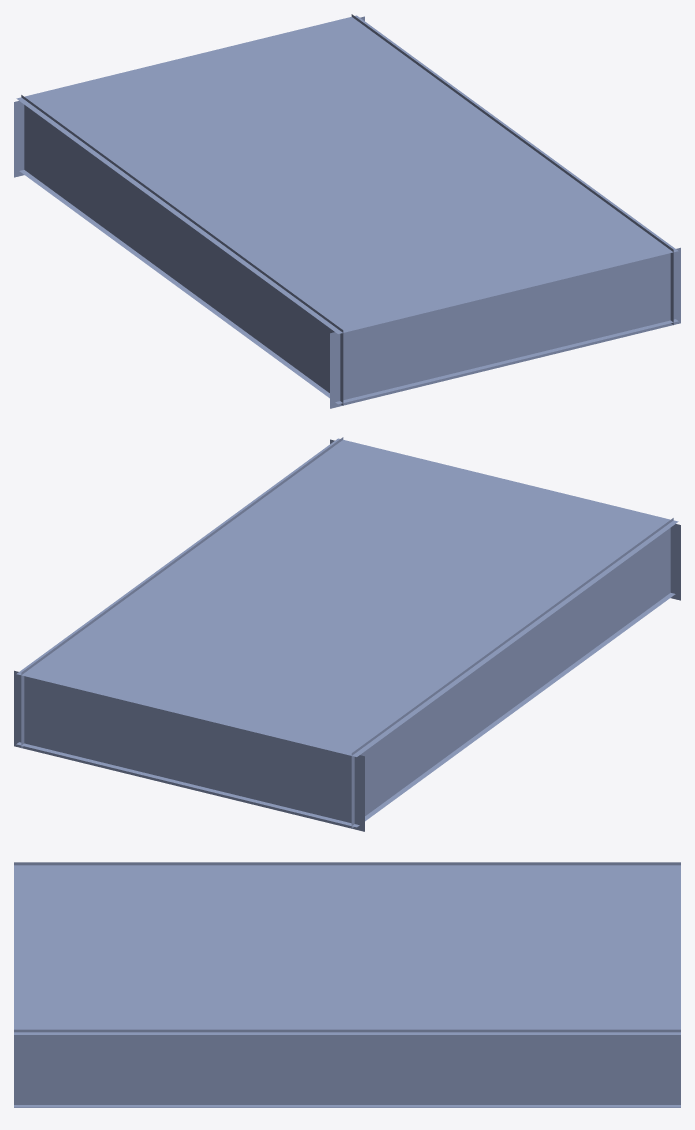
File: terrain.FBX
3 views of the same model, one above another, from view 1: azimuth 30°, elevation 25°; view 2: azimuth 150°, elevation 25°; view 3: azimuth 270°, elevation 25° (orthographic). The views are drawn at different scales.
Visible parts, largest first — view 1: Plane06, Plane03, Plane04, Plane01, Plane05, Plane02; view 2: Plane06, Plane02, Plane04, Plane01, Plane05, Plane03; view 3: Plane06, Plane05, Plane04, Plane01.
Part boxes in pixels (<box>): Plane06: <box>16,15,678,333</box>; Plane03: <box>330,247,680,408</box>; Plane04: <box>21,95,343,405</box>; Plane01: <box>19,170,678,404</box>; Plane05: <box>351,14,673,324</box>; Plane02: <box>14,16,364,177</box>; Plane06: <box>16,438,678,756</box>; Plane02: <box>14,670,364,831</box>; Plane04: <box>351,518,673,828</box>; Plane01: <box>16,593,675,827</box>; Plane05: <box>21,437,343,747</box>; Plane03: <box>330,439,680,600</box>; Plane06: <box>14,865,680,1034</box>; Plane05: <box>14,1029,680,1107</box>; Plane04: <box>14,862,680,865</box>; Plane01: <box>14,1105,680,1107</box>.
Bounding box in the file's own units: 340 × 540 × 72.5.
